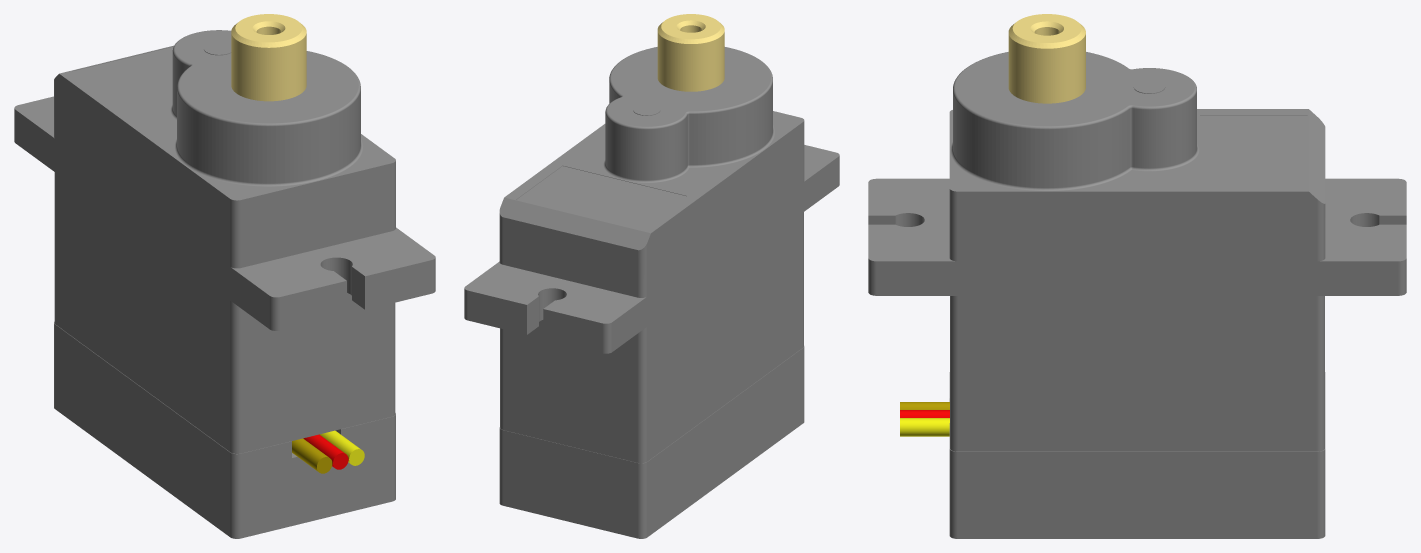
The model's file is servo.glb.
The picture shows the model from 3 angles, left to right: view 1: azimuth 30°, elevation 25°; view 2: azimuth 150°, elevation 25°; view 3: azimuth 270°, elevation 25°; orthographic projection. The views are drawn at different scales.
Parts seen in each view (by area): view 1: Node1, Node2, Node3, Node4, Node5; view 2: Node1, Node2; view 3: Node1, Node2, Node5.
Part boxes in pixels (bbox=[...]): Node1: bbox=[14, 30, 435, 538]; Node2: bbox=[231, 14, 306, 101]; Node3: bbox=[292, 438, 332, 473]; Node4: bbox=[303, 434, 348, 469]; Node5: bbox=[319, 430, 364, 465]; Node1: bbox=[464, 47, 839, 538]; Node2: bbox=[657, 14, 724, 91]; Node1: bbox=[868, 52, 1406, 538]; Node2: bbox=[1008, 14, 1085, 103]; Node5: bbox=[900, 418, 949, 436].
Bounding box in the file's own units: 11.8 × 31.26 × 32.5.
